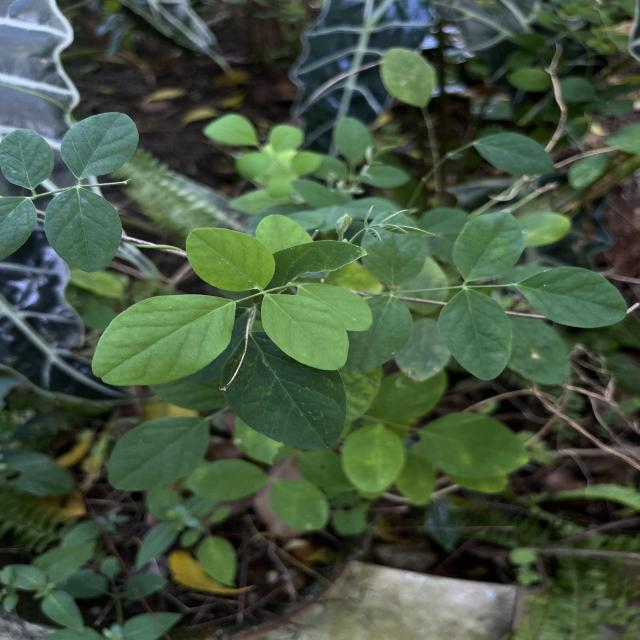Clitoria ternatea: (90, 293, 236, 387), (258, 294, 350, 372), (43, 188, 124, 274), (183, 226, 277, 292), (58, 110, 140, 181)
